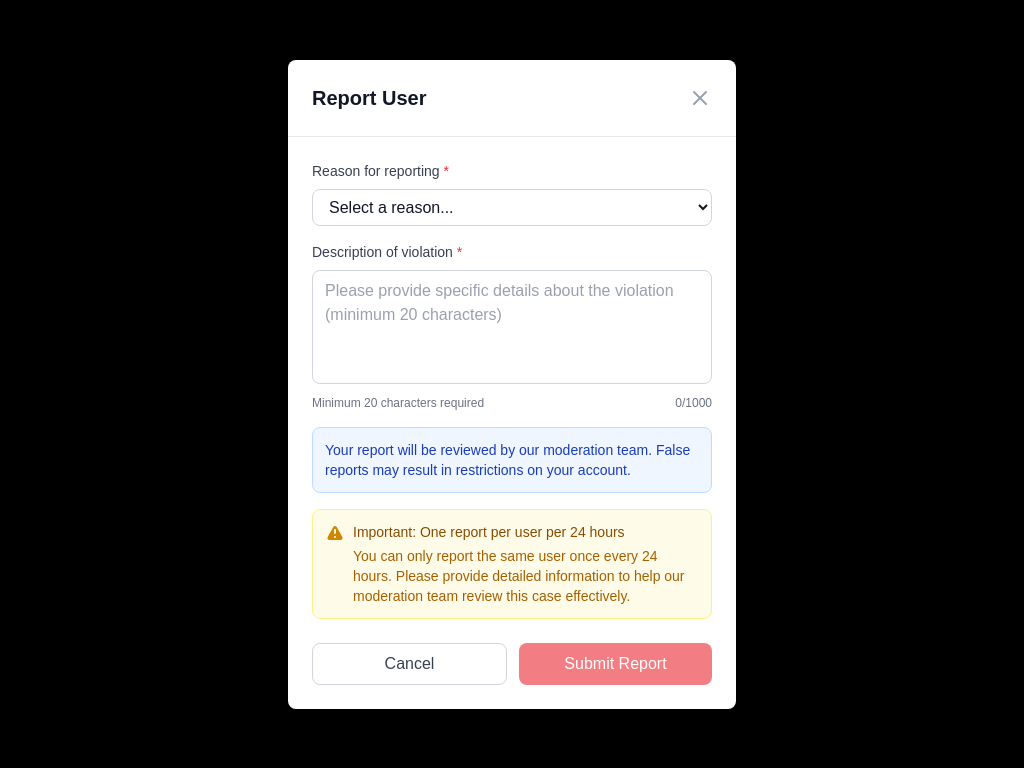
Test case: Report Submission with Evidence - Integration Tests › Validation error handling for short descriptions › should show error for empty description
Select reason
Select "Harassment or Bullying" in the dropdown labelled "Reason for reporting *" at x=512, y=207, box [312,188,712,226]
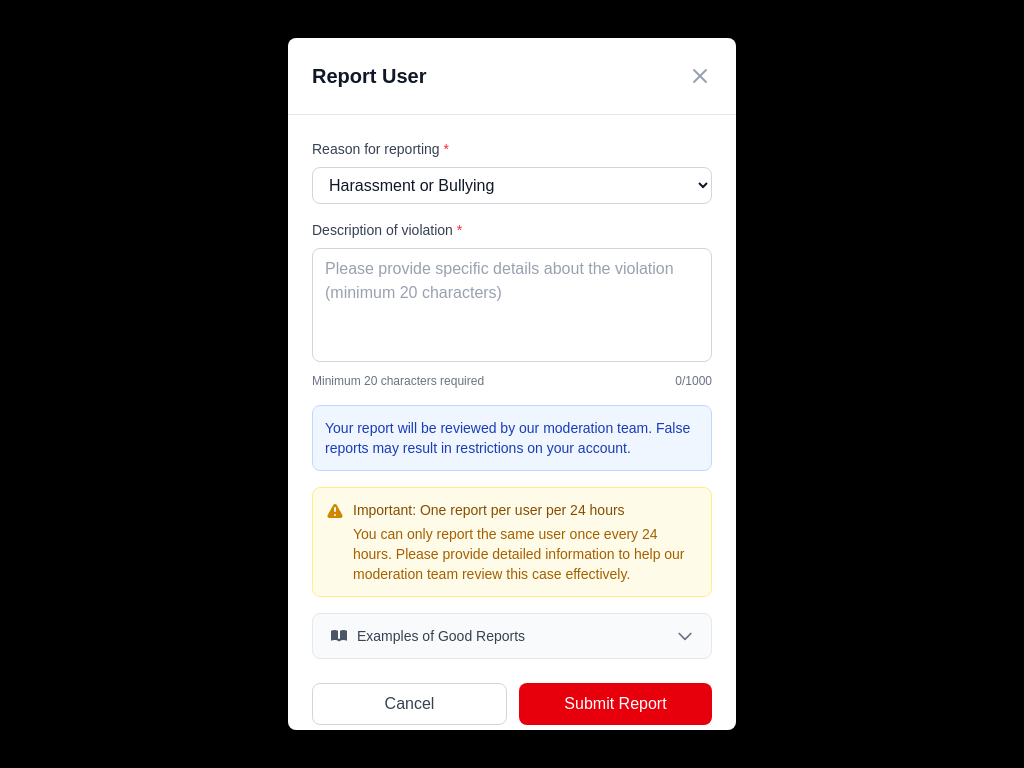
Try to submit
Click the button "Submit Report" at x=616, y=704, box [519,683,712,725]
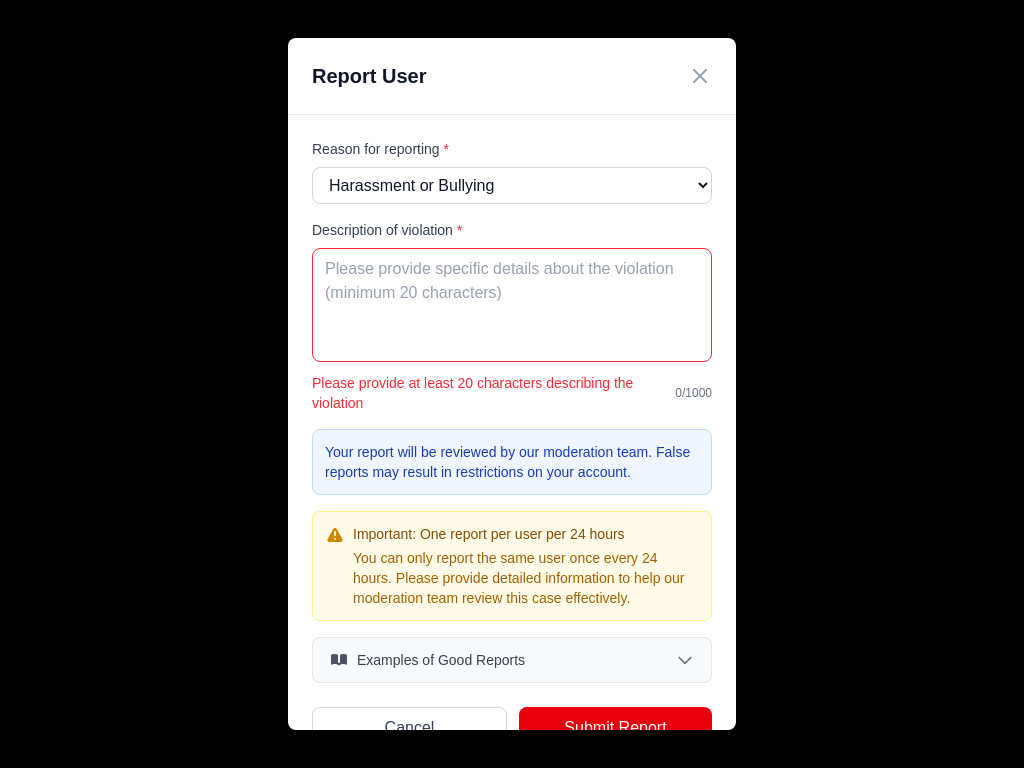
Now the text "Please provide at least 20 characters describing the violation" is shown, box [312,373,675,413]
